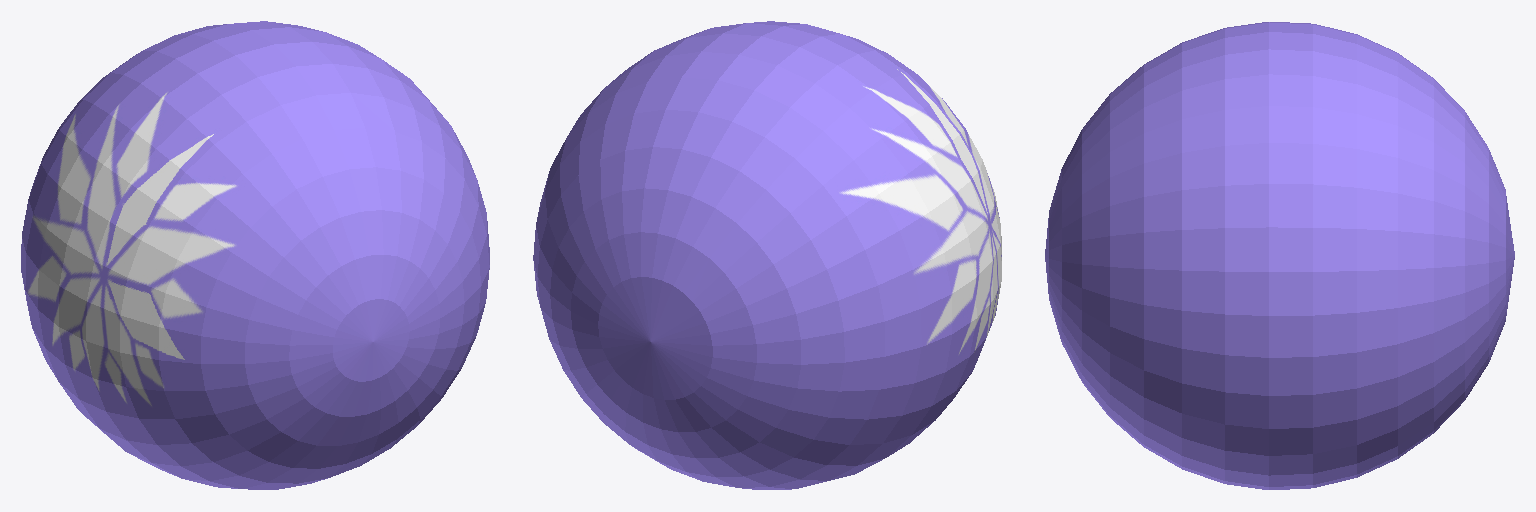
3 views of the same model, side by side, from view 1: azimuth 30°, elevation 25°; view 2: azimuth 150°, elevation 25°; view 3: azimuth 270°, elevation 25° (orthographic).
Visible parts, largest first — view 1: Sphere001; view 2: Sphere001; view 3: Sphere001.
Boxes of the visible parts, <box> form: Sphere001: <box>21,21,489,489</box>; Sphere001: <box>533,21,1001,489</box>; Sphere001: <box>1045,22,1514,489</box>.
Bounding box in the file's own units: 199 × 200 × 200.
Materials: 1 (1 with a texture image).